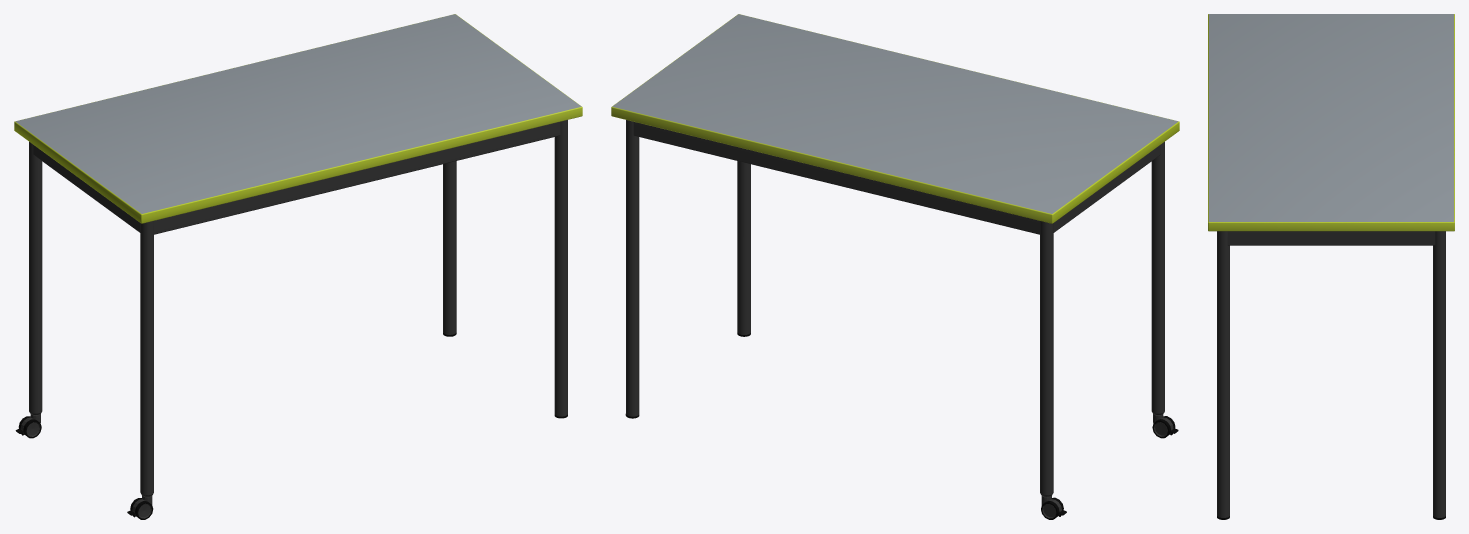
The model's file is Riviera Table.FBX.
The picture shows the model from 3 angles, left to right: view 1: azimuth 30°, elevation 25°; view 2: azimuth 150°, elevation 25°; view 3: azimuth 270°, elevation 25°; orthographic projection. The views are drawn at different scales.
Parts seen in each view (by area): view 1: ChamferBox002, RIVIERA TABLE ( 1200 W x 600 D x 750 H ); view 2: ChamferBox002, RIVIERA TABLE ( 1200 W x 600 D x 750 H ); view 3: ChamferBox002, RIVIERA TABLE ( 1200 W x 600 D x 750 H ).
Part boxes in pixels (x1,y1,x2,y2): ChamferBox002: (14,14,582,223); RIVIERA TABLE ( 1200 W x 600 D x 750 H ): (29,120,567,496); ChamferBox002: (611,14,1179,223); RIVIERA TABLE ( 1200 W x 600 D x 750 H ): (626,120,1164,496); ChamferBox002: (1208,14,1454,231); RIVIERA TABLE ( 1200 W x 600 D x 750 H ): (1217,231,1445,517).
Size of the model in its own units: 1212 by 808 by 600.
Materials: 4 (1 with a texture image).
